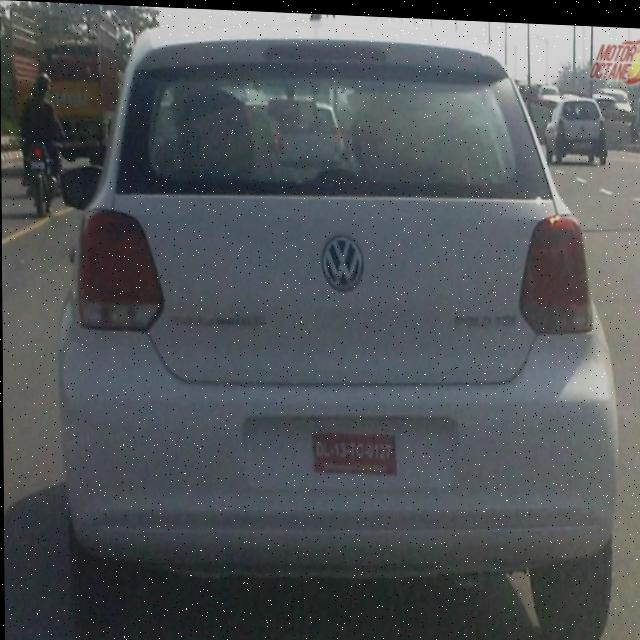plate: (313, 427, 398, 478)
